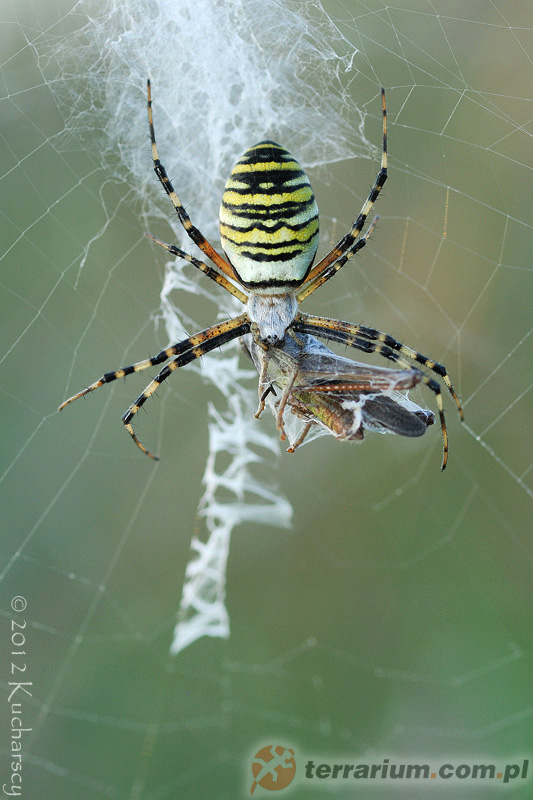spider: (48, 39, 482, 512)
